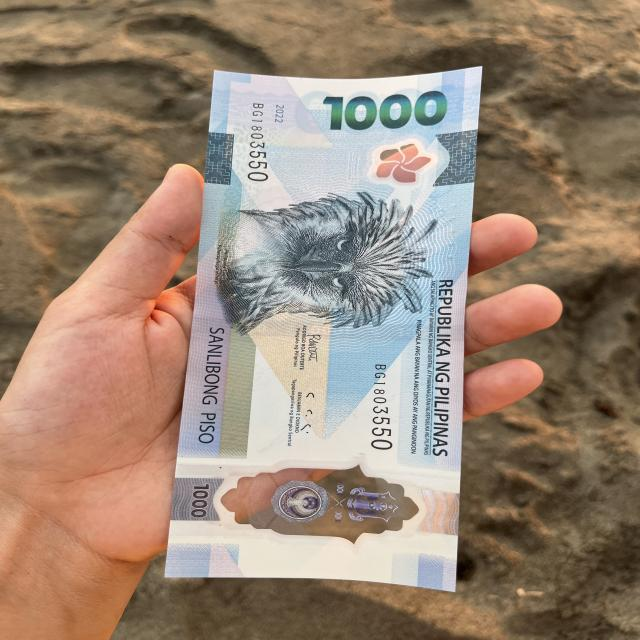clear_window: (163, 446, 458, 566)
eagle: (218, 176, 432, 334)
sampaguita: (363, 134, 436, 187)
